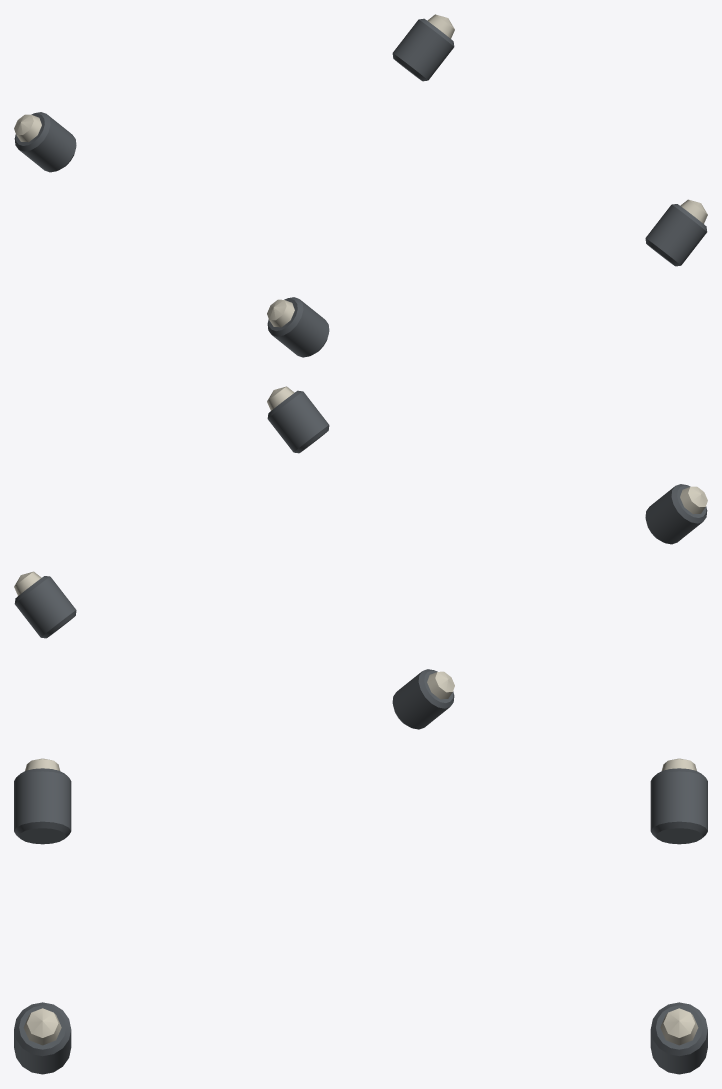
File: sr150_sensors.obj
3 views of the same model, one above another, from view 1: azimuth 30°, elevation 25°; view 2: azimuth 150°, elevation 25°; view 3: azimuth 270°, elevation 25° (orthographic). The views are drawn at different scales.
Visible parts, largest first — view 1: sr150_sensors; view 2: sr150_sensors; view 3: sr150_sensors.
Boxes of the visible parts, x1=… form: sr150_sensors: x1=14, y1=14, x2=707, y2=357; sr150_sensors: x1=14, y1=386, x2=707, y2=729; sr150_sensors: x1=14, y1=758, x2=707, y2=1074.
Size of the model in its own units: 0.997 by 0.1287 by 1.09.
